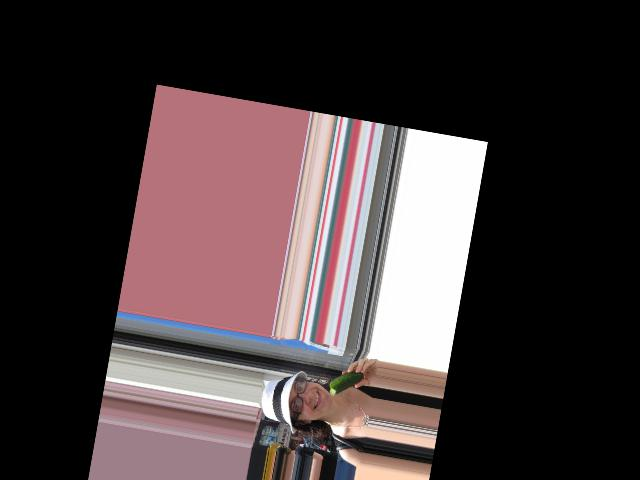cucumber: (328, 366, 364, 399)
